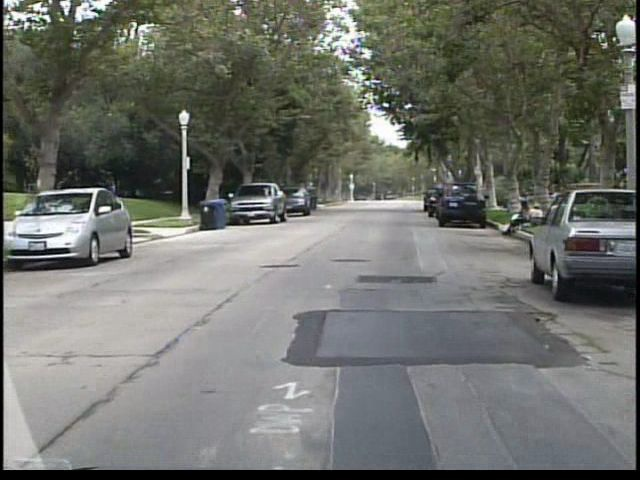person: (501, 197, 534, 239), (522, 203, 545, 236)
